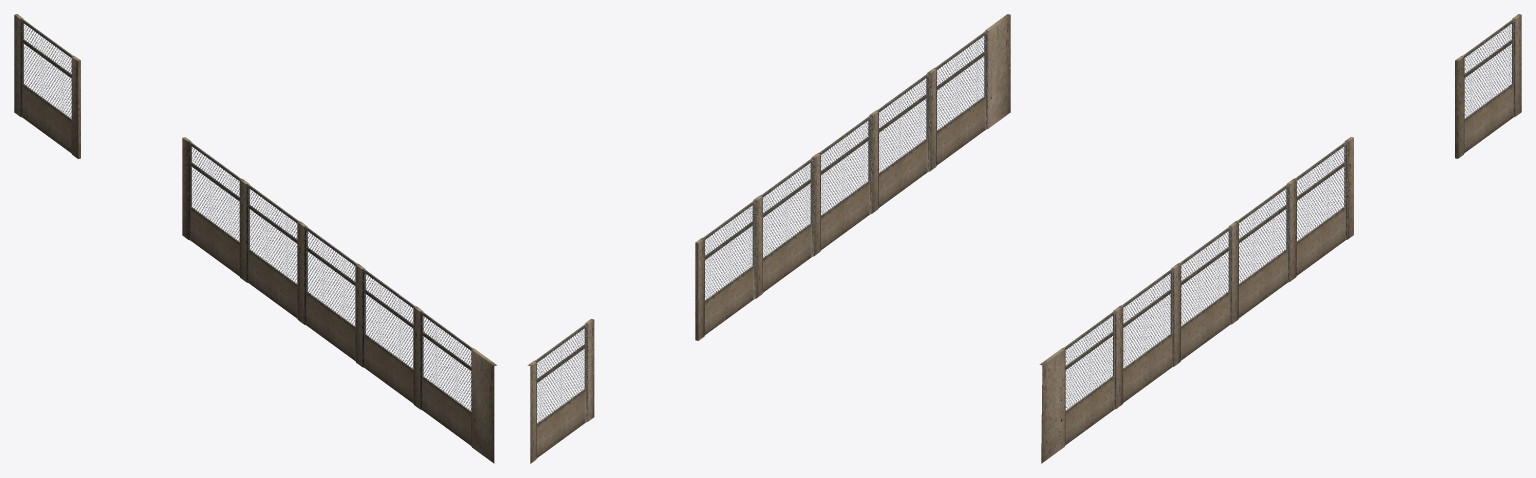
The model's file is M11B_Fence01.glb.
3 views of the same model, side by side, from view 1: azimuth 30°, elevation 25°; view 2: azimuth 150°, elevation 25°; view 3: azimuth 330°, elevation 25° (orthographic).
Parts seen in each view (by area): view 1: M11B_FENCE01; view 2: M11B_FENCE01; view 3: M11B_FENCE01.
Boxes of the visible parts, x1,y1,x2,y2 form: M11B_FENCE01: [14, 14, 496, 463]; M11B_FENCE01: [527, 14, 1010, 463]; M11B_FENCE01: [1039, 14, 1521, 463].
Bounding box in the file's own units: 0.06 × 1.86 × 16.61.
3 materials, 3 textured.
